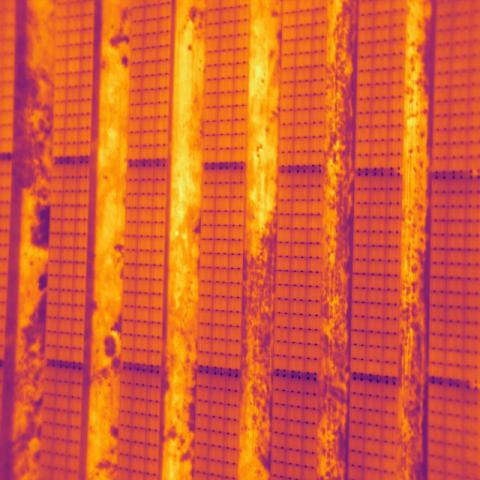fault: (66, 58, 80, 74)
